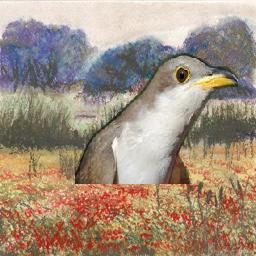Cuckoo: (76, 54, 239, 185)
